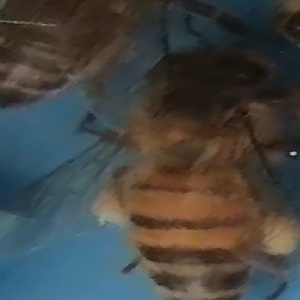bee: (133, 44, 298, 300)
